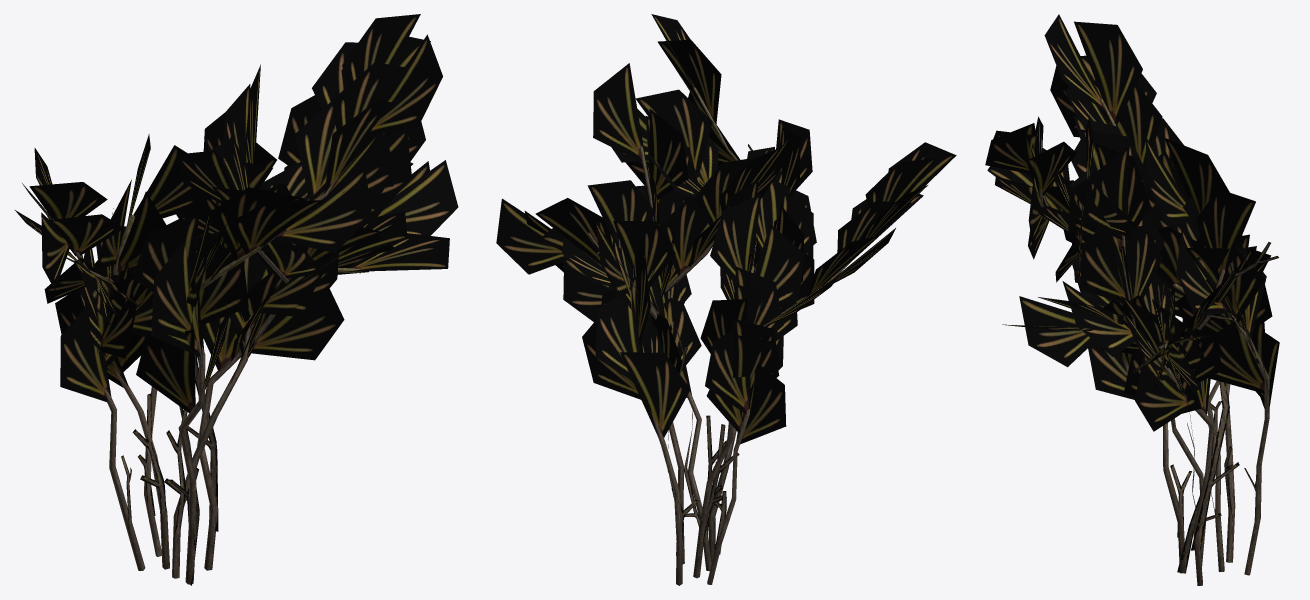
Rendered from kuru_cali_e.gltf.
3 renders of one model, left to right at view 1: azimuth 30°, elevation 25°; view 2: azimuth 150°, elevation 25°; view 3: azimuth 270°, elevation 25°, orthographic. The views are drawn at different scales.
Parts seen in each view (by area): view 1: kuru_cali_e; view 2: kuru_cali_e; view 3: kuru_cali_e.
Boxes of the visible parts, x1,y1,x2,y2 form: kuru_cali_e: [15, 14, 458, 585]; kuru_cali_e: [496, 14, 956, 585]; kuru_cali_e: [985, 14, 1279, 585].
Size of the model in its own units: 0.2776 by 0.3062 by 0.1657.
Materials: 3 (3 with a texture image).
